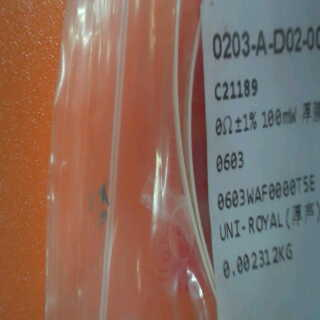0R: (214, 109, 256, 175)
